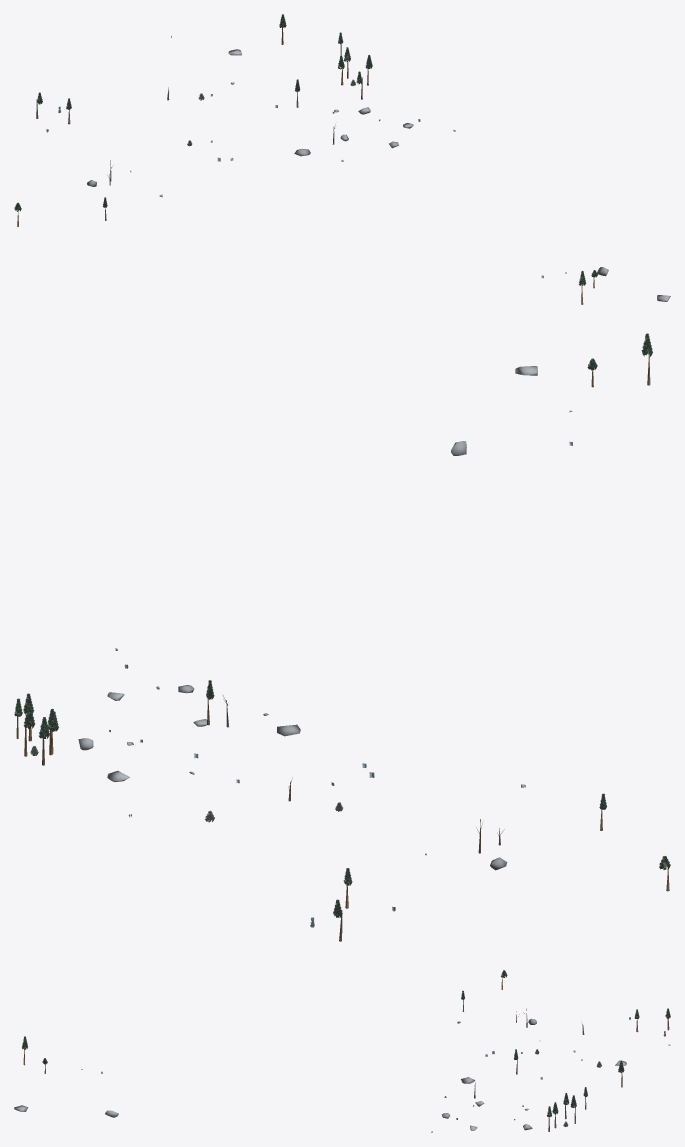
The model's file is frost_land_scatter_c19_10_lod1.glb.
3 renders of one model, top to bottom at view 1: azimuth 30°, elevation 25°; view 2: azimuth 150°, elevation 25°; view 3: azimuth 270°, elevation 25°, orthographic. The views are drawn at different scales.
Parts seen in each view (by area): view 1: frost_land_scatter_c19_10_lod1; view 2: frost_land_scatter_c19_10_lod1; view 3: frost_land_scatter_c19_10_lod1.
Part boxes in pixels (box(x1,y1,x2,y2)): frost_land_scatter_c19_10_lod1: box(14, 14, 670, 304); frost_land_scatter_c19_10_lod1: box(14, 333, 670, 941); frost_land_scatter_c19_10_lod1: box(14, 970, 670, 1132).
Bounding box in the file's own units: 155 × 32.14 × 254.
